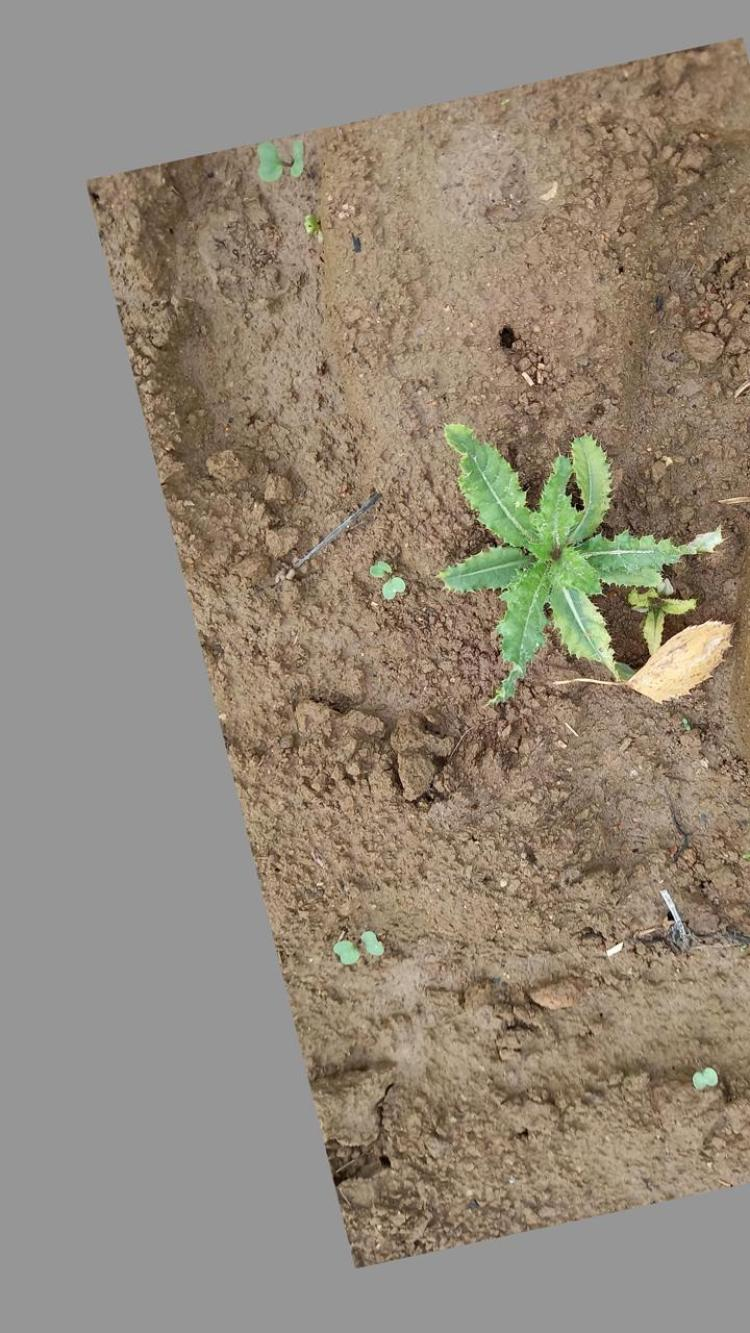bodyak: (431, 412, 696, 740)
